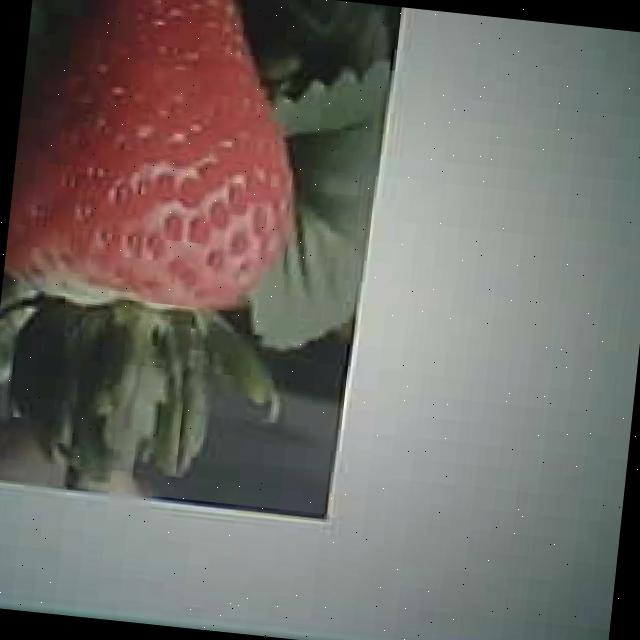strawberry: (7, 0, 314, 325)
